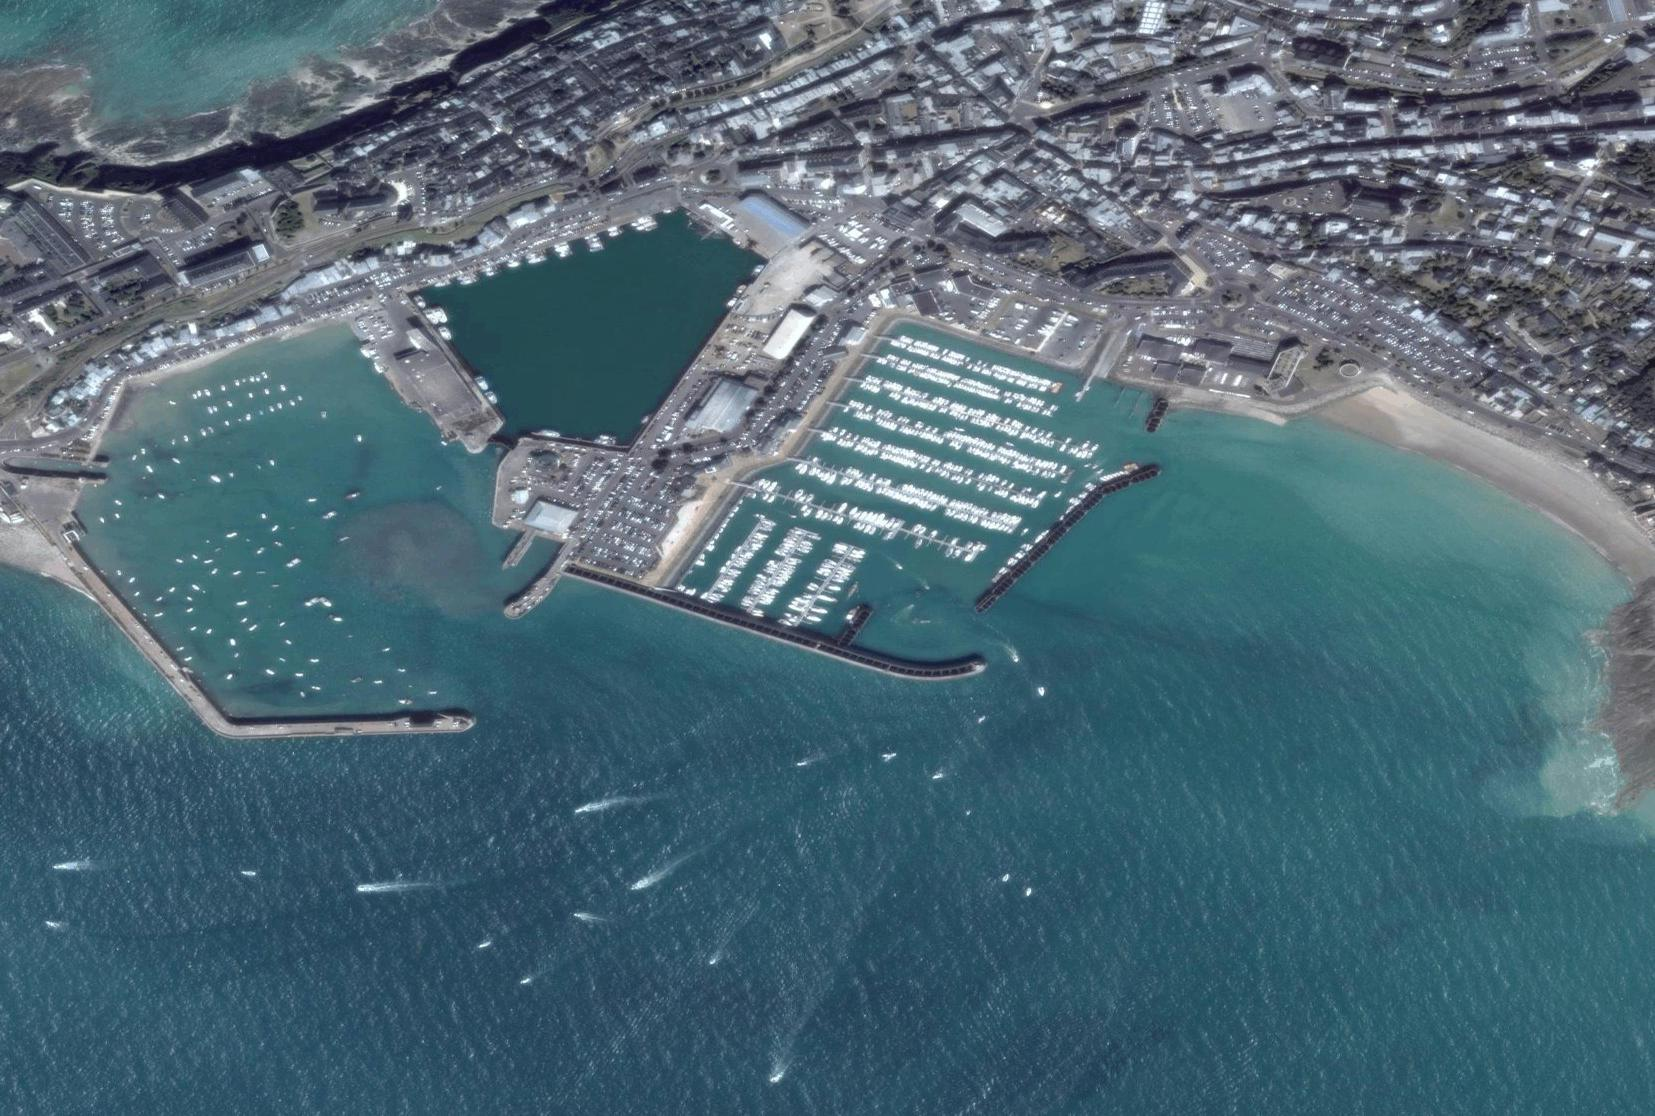harbor: (44, 172, 1138, 771)
